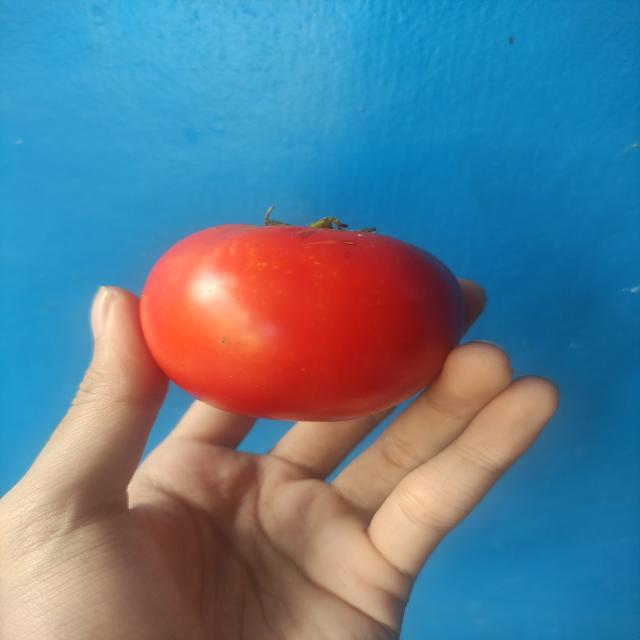ripe tomato: (131, 210, 459, 422)
